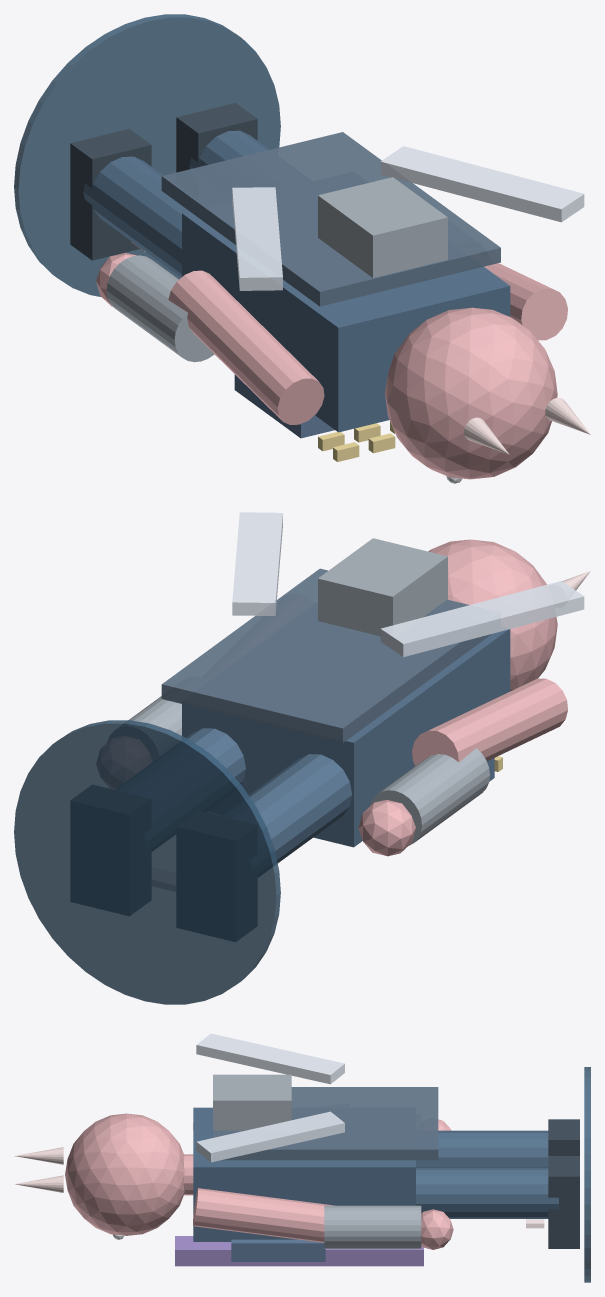
File: SW_NPC_047_zaya_glasswake.glb
The picture shows the model from 3 angles, top to bottom: view 1: azimuth 30°, elevation 25°; view 2: azimuth 150°, elevation 25°; view 3: azimuth 270°, elevation 25°; orthographic projection. The views are drawn at different scales.
Visible parts, largest first — view 1: round_base_plate, head, torso_uniform, storm_cloak, left_upper_arm, wingpack_core, left_leg, right_wing_rig, left_forearm_gauntlet, left_boot, left_wing_rig, right_upper_arm (+6 smaller); view 2: round_base_plate, storm_cloak, torso_uniform, wingpack_core, head, left_upper_arm, left_wing_rig, left_leg, left_forearm_gauntlet, right_wing_rig, left_hand, right_leg (+1 smaller); view 3: head, torso_uniform, storm_cloak, right_leg, right_upper_arm, left_leg, right_forearm_gauntlet, wingpack_core, rank_sash, right_wing_rig, left_wing_rig, right_boot (+7 smaller).
Part boxes in pixels (x1=…): round_base_plate: x1=14, y1=14, x2=280, y2=296; head: x1=384, y1=307, x2=557, y2=479; torso_uniform: x1=182, y1=211, x2=510, y2=432; storm_cloak: x1=161, y1=132, x2=500, y2=306; left_upper_arm: x1=168, y1=270, x2=324, y2=424; wingpack_core: x1=318, y1=177, x2=447, y2=277; left_leg: x1=83, y1=156, x2=189, y2=277; right_wing_rig: x1=380, y1=146, x2=584, y2=222; left_forearm_gauntlet: x1=106, y1=255, x2=214, y2=362; left_boot: x1=70, y1=128, x2=151, y2=260; left_wing_rig: x1=232, y1=187, x2=282, y2=290; right_upper_arm: x1=484, y1=263, x2=567, y2=340; round_base_plate: x1=14, y1=720, x2=280, y2=1004; storm_cloak: x1=161, y1=568, x2=491, y2=742; torso_uniform: x1=182, y1=629, x2=510, y2=847; wingpack_core: x1=318, y1=538, x2=447, y2=636; head: x1=428, y1=539, x2=557, y2=691; left_upper_arm: x1=412, y1=678, x2=567, y2=765; left_wing_rig: x1=380, y1=581, x2=584, y2=657; left_leg: x1=249, y1=754, x2=352, y2=863; left_forearm_gauntlet: x1=369, y1=748, x2=489, y2=845; right_wing_rig: x1=232, y1=512, x2=282, y2=615; left_hand: x1=358, y1=799, x2=415, y2=856; right_leg: x1=186, y1=728, x2=245, y2=784; head: x1=65, y1=1113, x2=184, y2=1235; torso_uniform: x1=193, y1=1107, x2=415, y2=1241; storm_cloak: x1=213, y1=1087, x2=438, y2=1160; right_leg: x1=416, y1=1167, x2=558, y2=1218; right_upper_arm: x1=193, y1=1188, x2=334, y2=1242; left_leg: x1=416, y1=1130, x2=548, y2=1167; right_forearm_gauntlet: x1=324, y1=1205, x2=421, y2=1248; wingpack_core: x1=213, y1=1074, x2=291, y2=1130; rank_sash: x1=175, y1=1236, x2=423, y2=1266; right_wing_rig: x1=196, y1=1111, x2=344, y2=1162; left_wing_rig: x1=196, y1=1033, x2=344, y2=1084; right_boot: x1=548, y1=1156, x2=579, y2=1248.
Size of the model in its own units: 1.08 by 0.8232 by 2.2.
